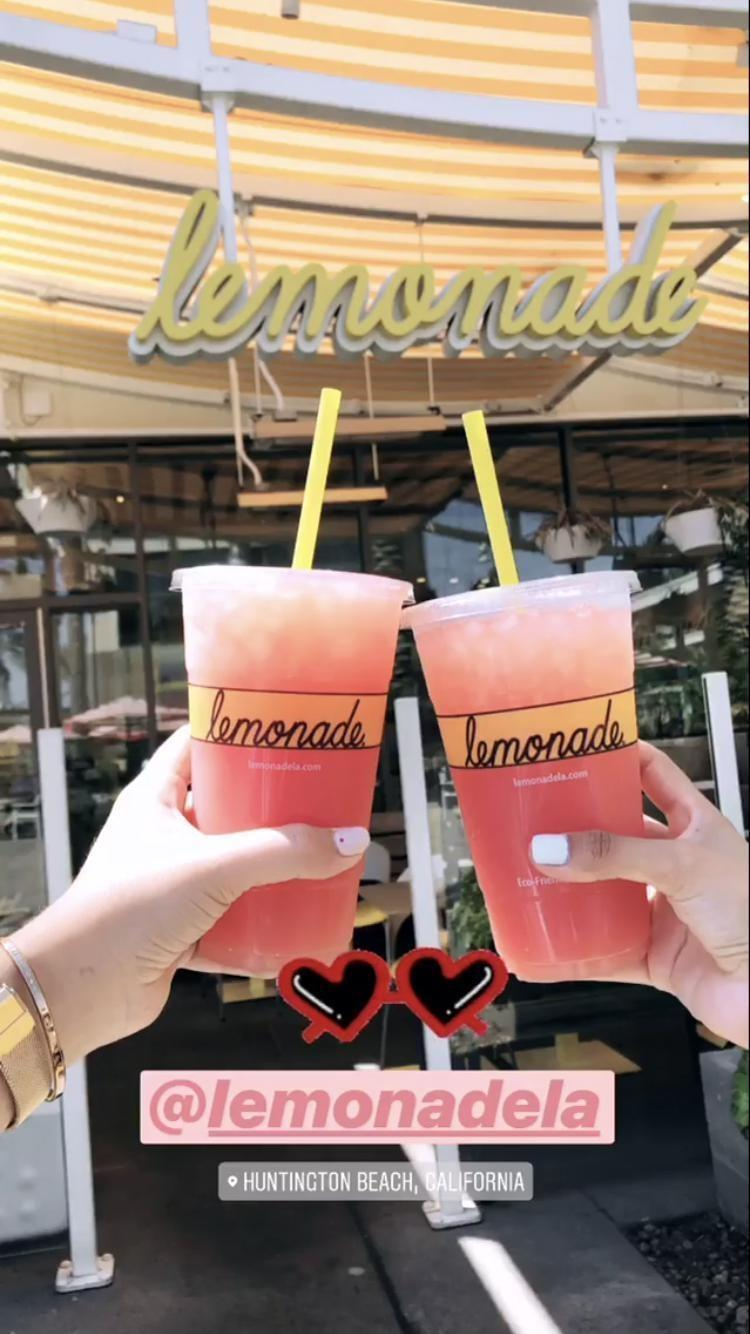cup-disposable: (401, 566, 661, 976), (174, 561, 413, 978)
